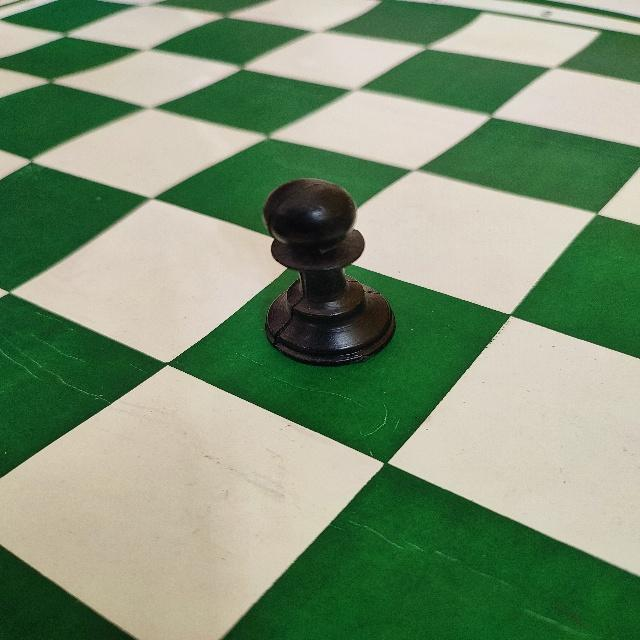Pawn: (260, 172, 398, 370)
